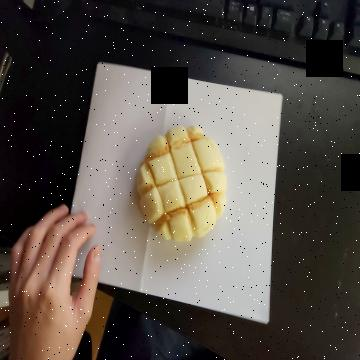melon_bread: (135, 124, 228, 247)
